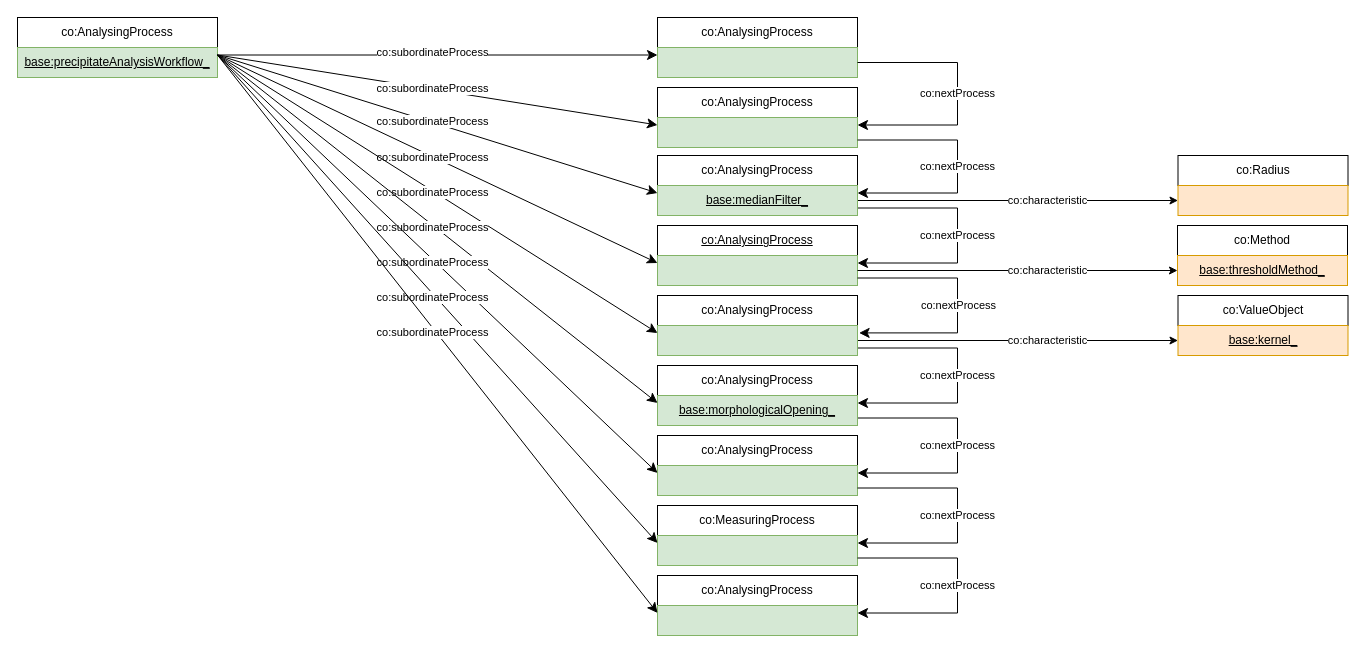
The diagram is 1366 pixels wide and 653 high, and some of its shapes have lost their labels. The shapes that lost their labels are listed below. From the top down, each one's centre as x and y in pixels, then its label:
At (x=757, y=62): "base:renderImage_".
At (x=757, y=132): "base:grayscaleConversion_".
At (x=1262, y=200): "base:diskRadius_".
At (x=757, y=270): "base:thresholdImage_".
At (x=757, y=340): "base:dilation_".
At (x=757, y=480): "base:clearBorder_".
At (x=757, y=550): "base:findContour_".
At (x=757, y=620): "base:labelPrecipitates_".
